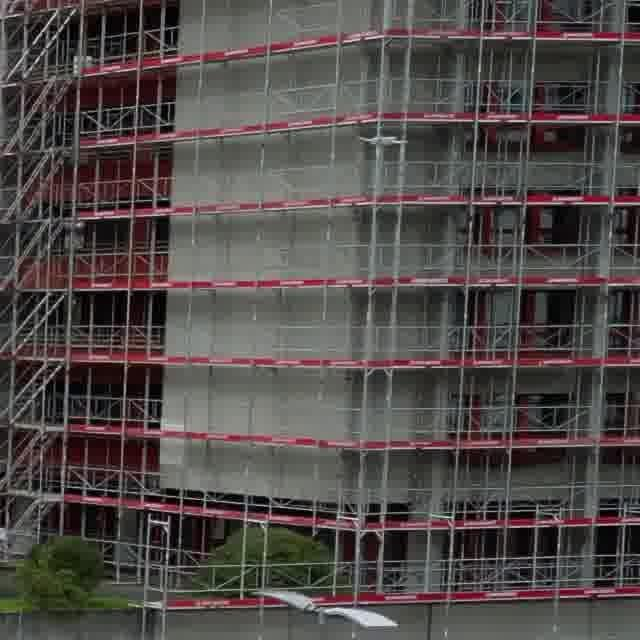Drohne: (360, 135, 405, 148)
